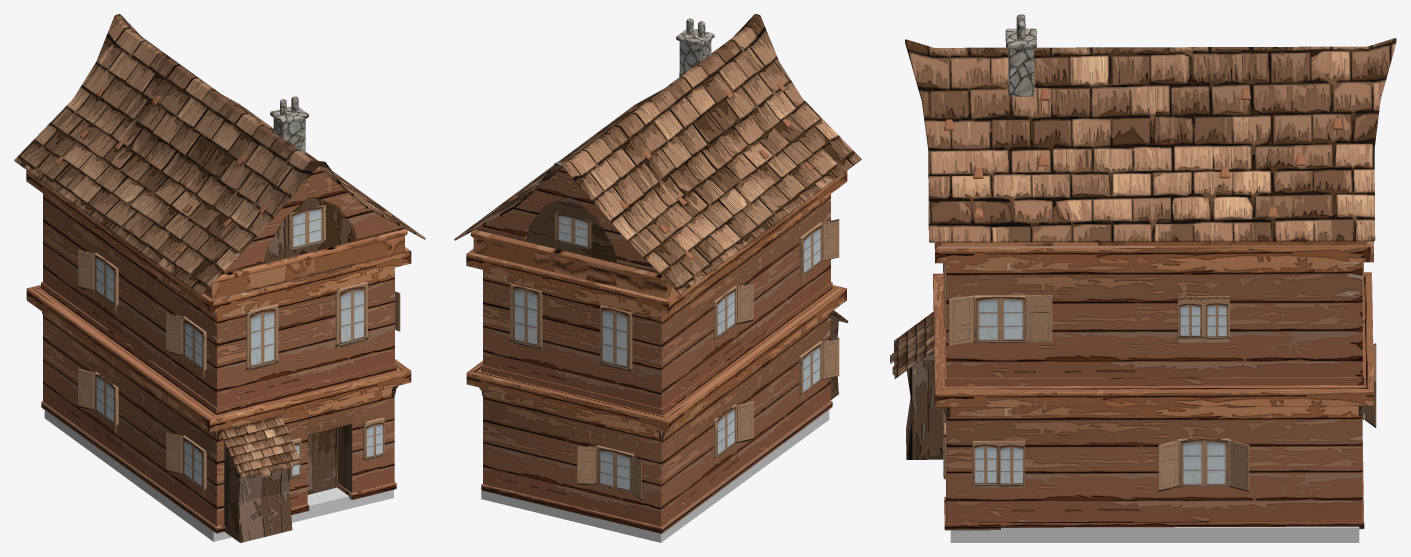
Rendered from Casa_comum 4.fbx.
3 views of the same model, side by side, from view 1: azimuth 30°, elevation 25°; view 2: azimuth 150°, elevation 25°; view 3: azimuth 270°, elevation 25° (orthographic). The views are drawn at different scales.
Parts seen in each view (by area): view 1: polySurface96, Casa_comum 5, pCube4, pCube112, polySurface93, polySurface94, polySurface95, Plane, polySurface238, polySurface237, polySurface218, polySurface215 (+5 smaller); view 2: polySurface96, pCube4, Casa_comum 5, polySurface93, polySurface98, polySurface206, Plane, polySurface244, polySurface239, polySurface240, polySurface215, polySurface217 (+4 smaller); view 3: polySurface96, pCube4, Casa_comum 5, Plane, pCube112, polySurface213, polySurface210, polySurface93, pCube133, polySurface230, polySurface241, polySurface229 (+4 smaller).
Boxes of the visible parts, x1=… form: polySurface96: x1=14, y1=14, x2=425, y2=294; Casa_comum 5: x1=26, y1=170, x2=411, y2=414; pCube4: x1=26, y1=285, x2=411, y2=533; pCube112: x1=220, y1=416, x2=301, y2=542; polySurface93: x1=203, y1=229, x2=407, y2=298; polySurface94: x1=223, y1=167, x2=403, y2=272; polySurface95: x1=221, y1=197, x2=404, y2=274; Plane: x1=44, y1=410, x2=393, y2=541; polySurface238: x1=335, y1=282, x2=367, y2=348; polySurface237: x1=246, y1=304, x2=278, y2=370; polySurface218: x1=78, y1=249, x2=118, y2=315; polySurface215: x1=166, y1=432, x2=206, y2=497; polySurface96: x1=454, y1=14, x2=861, y2=294; pCube4: x1=466, y1=285, x2=846, y2=533; Casa_comum 5: x1=466, y1=171, x2=847, y2=415; polySurface93: x1=470, y1=229, x2=676, y2=299; polySurface98: x1=477, y1=167, x2=657, y2=272; polySurface206: x1=476, y1=197, x2=658, y2=273; Plane: x1=481, y1=410, x2=829, y2=542; polySurface244: x1=577, y1=445, x2=641, y2=500; polySurface239: x1=600, y1=305, x2=632, y2=371; polySurface240: x1=510, y1=284, x2=542, y2=350; polySurface215: x1=799, y1=337, x2=839, y2=402; polySurface217: x1=799, y1=219, x2=839, y2=283; polySurface96: x1=905, y1=38, x2=1396, y2=242; pCube4: x1=933, y1=272, x2=1373, y2=530; Casa_comum 5: x1=934, y1=241, x2=1373, y2=386; Plane: x1=950, y1=526, x2=1359, y2=542; pCube112: x1=890, y1=311, x2=943, y2=459; polySurface213: x1=1158, y1=438, x2=1249, y2=491; polySurface210: x1=973, y1=295, x2=1025, y2=342; polySurface93: x1=940, y1=241, x2=1367, y2=246; pCube133: x1=1005, y1=28, x2=1036, y2=96; polySurface230: x1=1026, y1=295, x2=1052, y2=342; polySurface241: x1=998, y1=440, x2=1024, y2=487; polySurface229: x1=1177, y1=296, x2=1203, y2=342.
Bounding box in the file's own units: 327 × 540 × 518.
